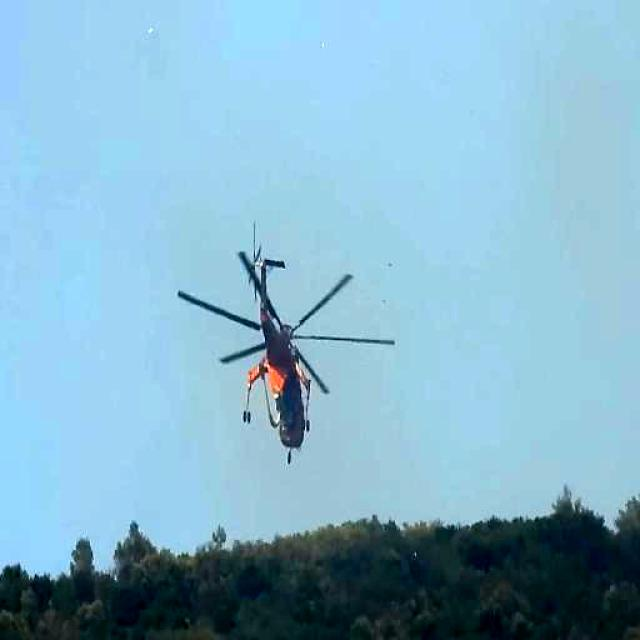drone: (178, 226, 398, 470)
